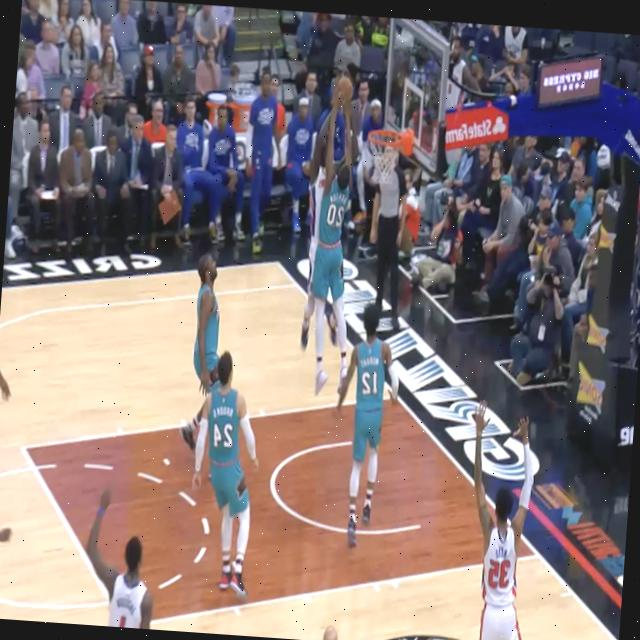foul: (281, 73, 370, 411)
no foul: (327, 294, 408, 535)
